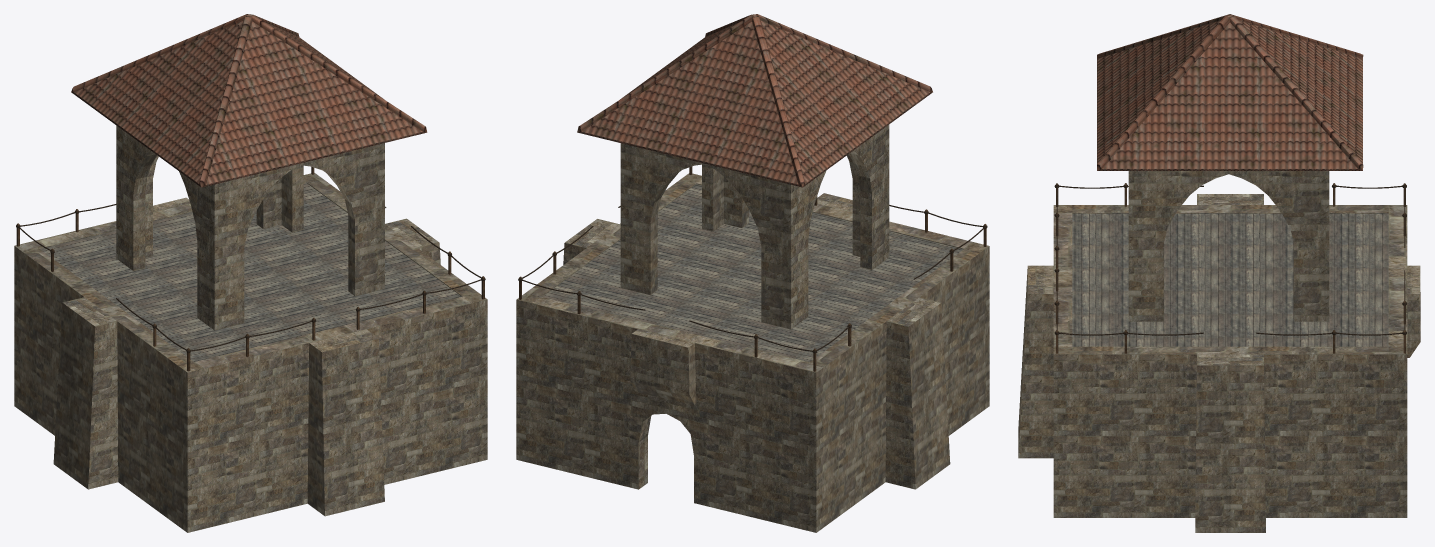
File: FortTower2.dae
The picture shows the model from 3 angles, left to right: view 1: azimuth 30°, elevation 25°; view 2: azimuth 150°, elevation 25°; view 3: azimuth 270°, elevation 25°; orthographic projection. The views are drawn at different scales.
Parts seen in each view (by area): view 1: forts_stone_sep6-0; view 2: forts_stone_sep6-0; view 3: forts_stone_sep6-0.
Part boxes in pixels (x1,y1,x2,y2): forts_stone_sep6-0: (14,14,487,532); forts_stone_sep6-0: (516,14,989,532); forts_stone_sep6-0: (1018,14,1420,532).
Size of the model in its own units: 18.24 by 20.22 by 17.29.
